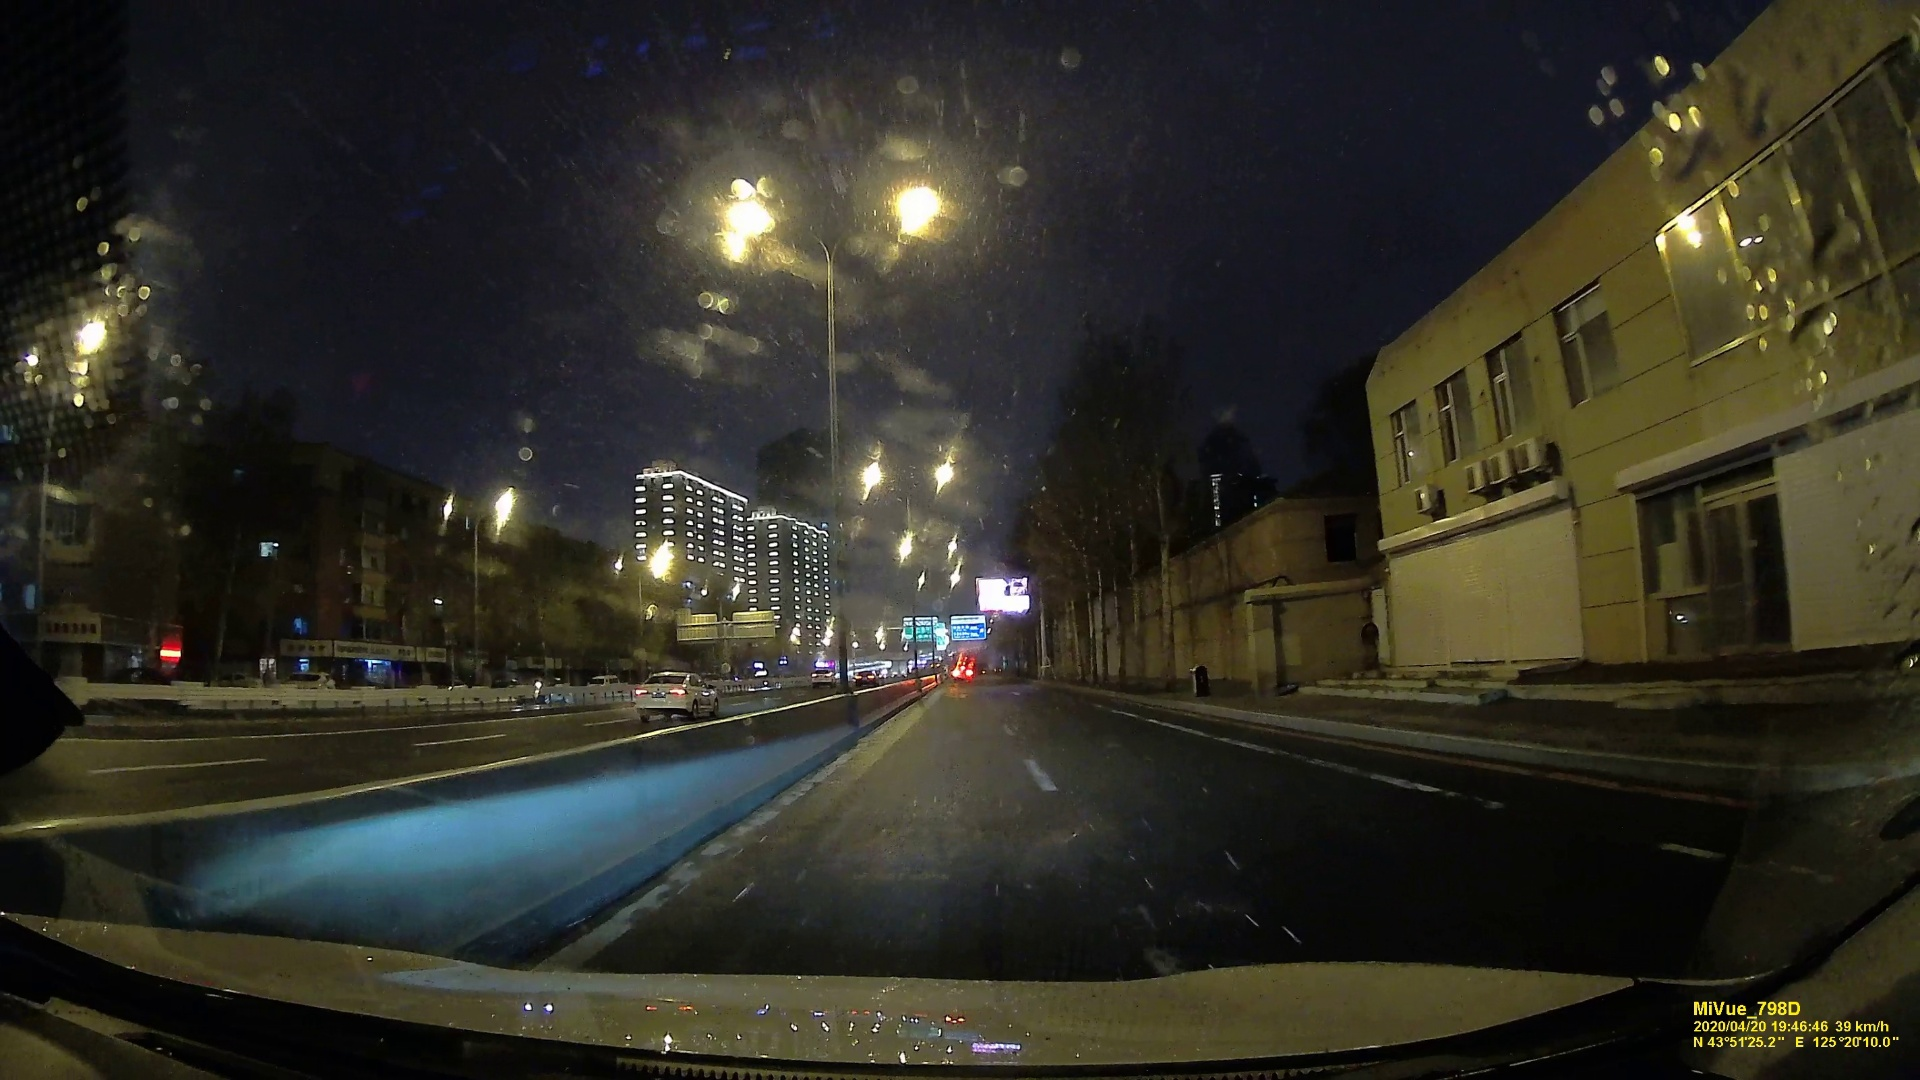traffic_sign: (949, 615, 985, 638)
vehicle: (632, 670, 719, 721), (905, 617, 938, 640), (811, 669, 836, 688), (855, 669, 881, 687)
